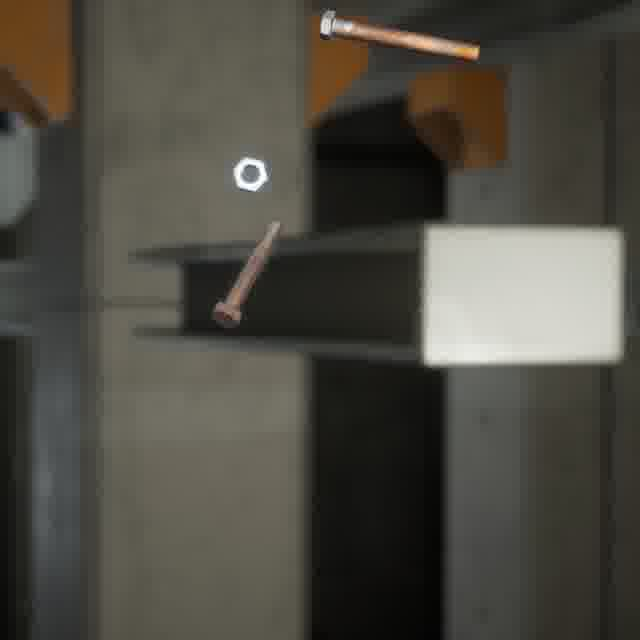bolt: (315, 6, 485, 66), (207, 216, 286, 332)
nut: (228, 152, 273, 198)
